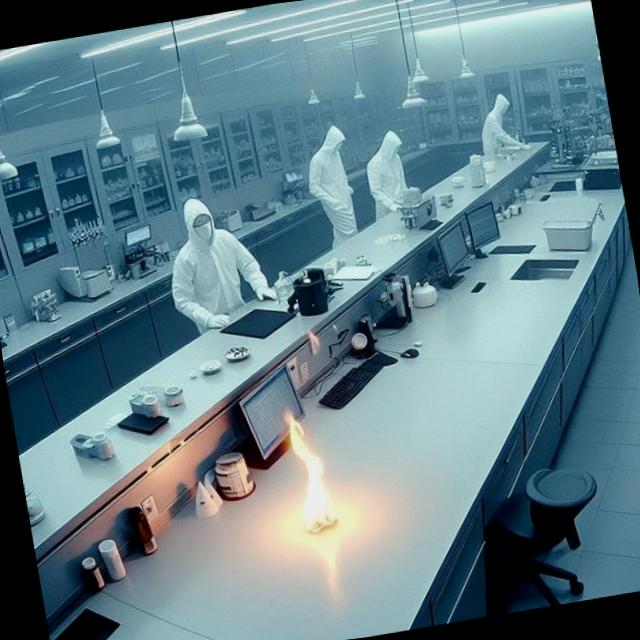fire: (245, 370, 358, 576)
